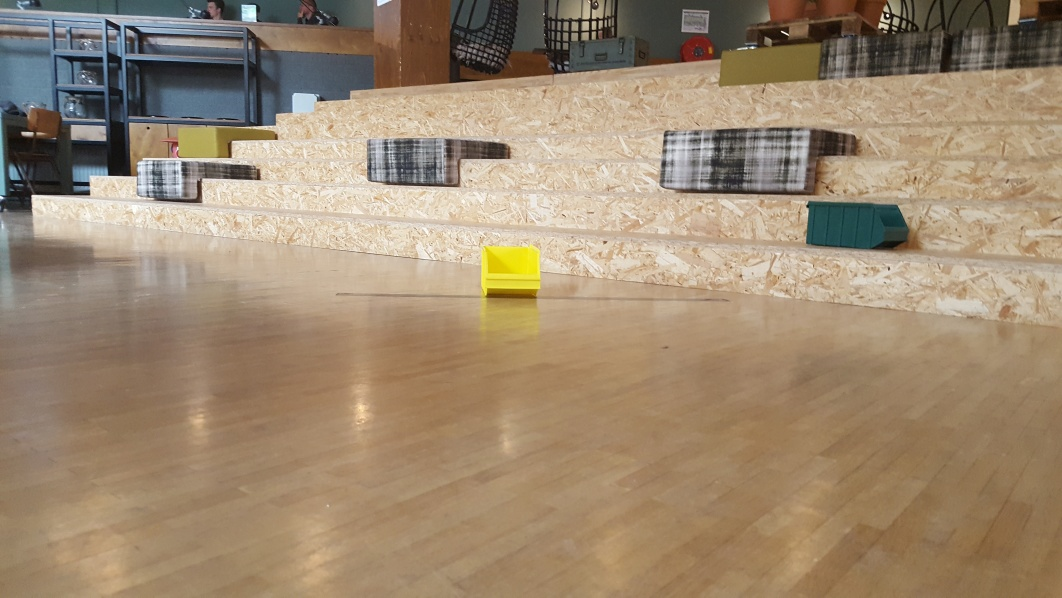tray: (799, 200, 909, 249), (478, 246, 545, 300)
